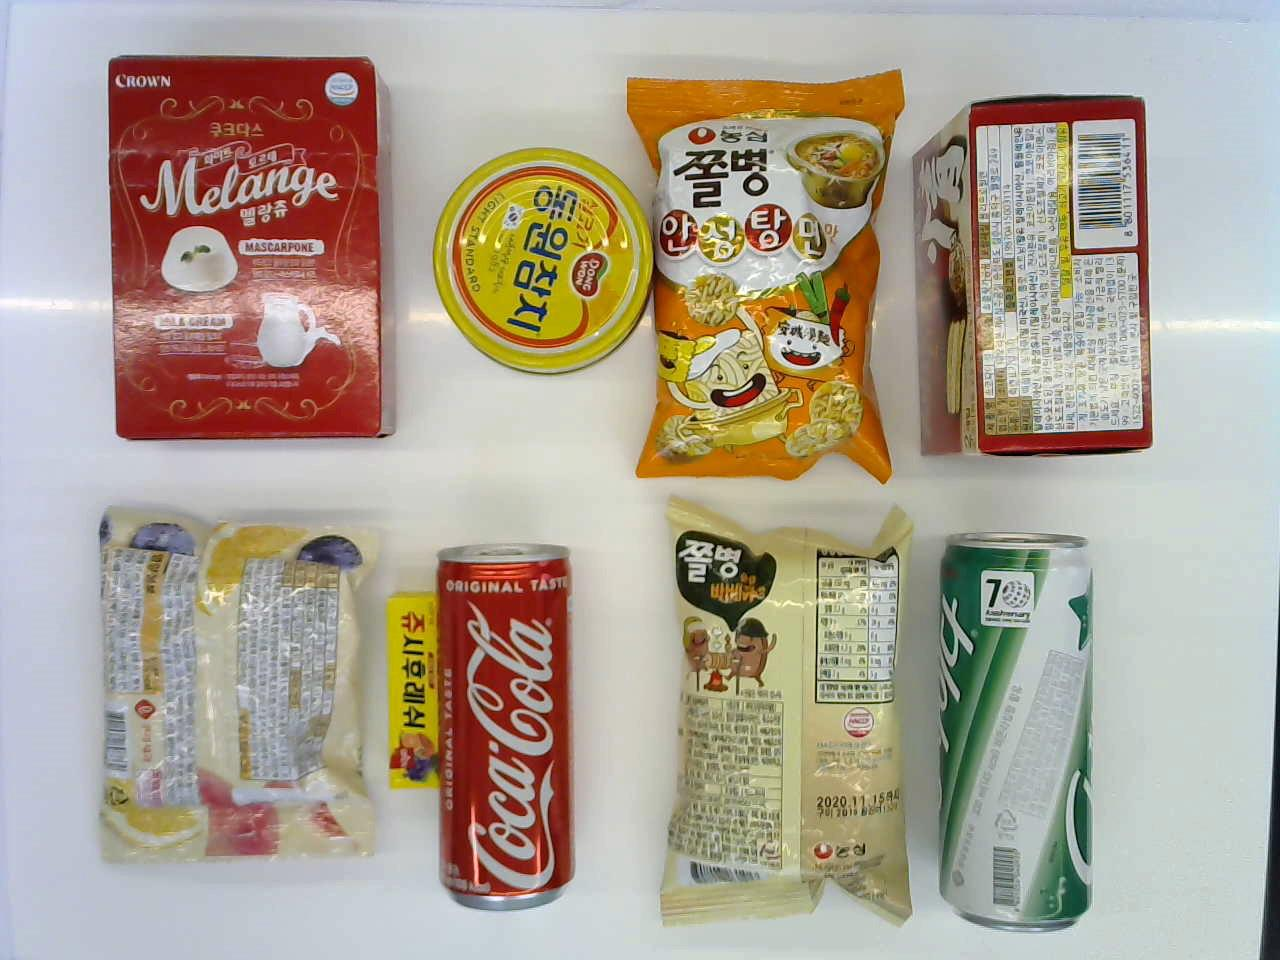chocopie: (912, 88, 1160, 472)
cidar: (942, 531, 1102, 928)
coke: (434, 518, 594, 915)
couque_white: (91, 48, 394, 438)
gumi_gumi: (87, 499, 375, 877)
jjolbyung_noodle: (624, 62, 901, 477)
jjolbyung_ori: (650, 494, 921, 936)
juicyfresh: (386, 571, 443, 795)
tuna: (416, 144, 648, 379)
